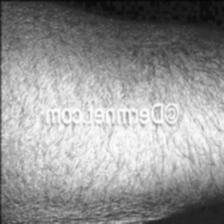Non-Cancerous Skin Condition: (42, 128, 190, 218), (64, 44, 218, 97), (0, 21, 41, 200)
